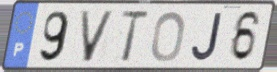6: (227, 9, 261, 64)
9: (37, 10, 70, 64)
J: (190, 11, 224, 63)
O: (149, 10, 187, 64)
T: (119, 9, 151, 64)
V: (78, 10, 117, 65)
